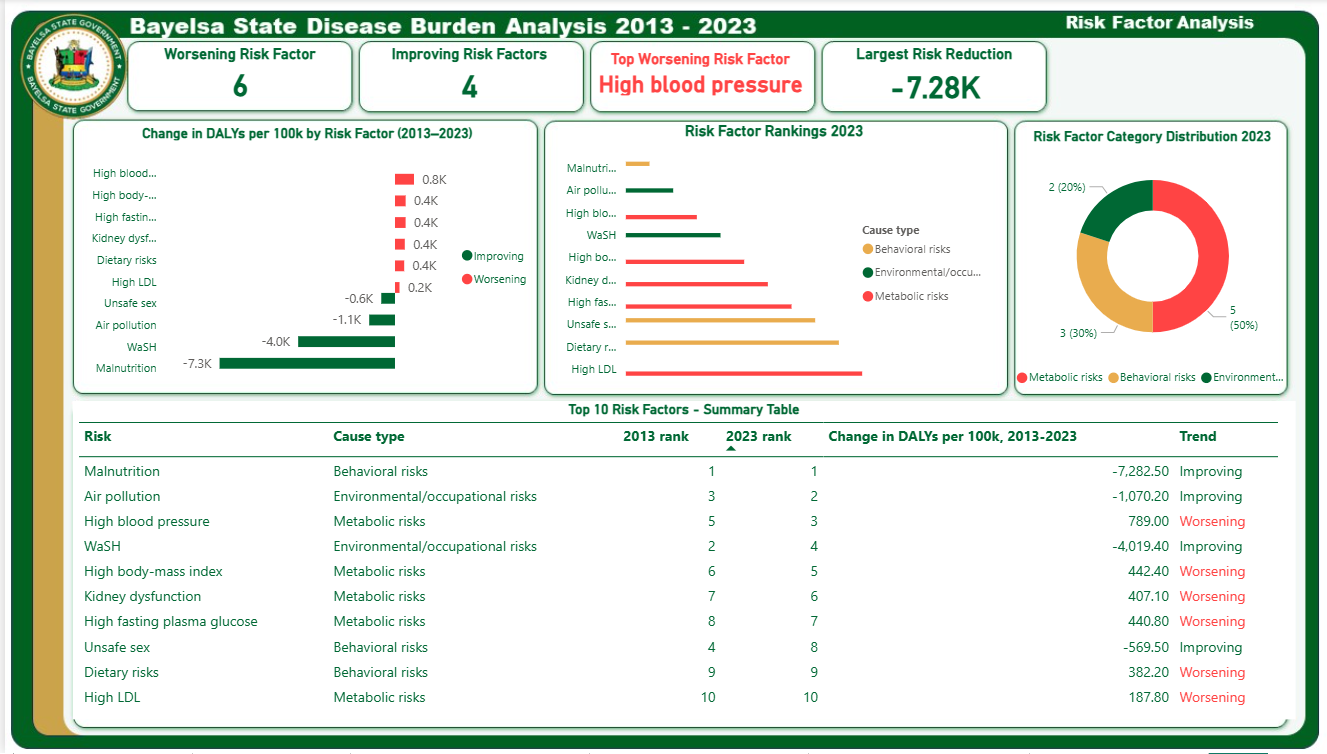

The page's visual inventory and layout, read from the dashboard file:
{"tool":"powerbi","page":{"name":"Risk Factor Analysis","canvas":[1280,720],"ordinal":4},"visuals":[{"type":"card","title":"Worsening Risk Factor","fields":{"Values":["Risk Factors.Worsening Risk Factors"]},"box":[120,44,208,55],"z":0},{"type":"card","title":"Improving Risk Factors","fields":{"Values":["Risk Factors.Improving Risk Factors"]},"box":[339,44,208,57],"z":1000},{"type":"card","title":"Top Worsening Risk Factor","fields":{"Values":["Risk Factors.Top Worsening Risk Factor"]},"box":[560,48,208,48],"z":2000},{"type":"card","title":"Largest Risk Reduction","fields":{"Values":["Risk Factors.Largest Risk Reduction"]},"box":[784,44,208,60],"z":3000},{"type":"clusteredBarChart","title":"Change in DALYs per 100k by Risk Factor (2013–2023)","fields":{"Category":["Risk Factors.Risk"],"Y":["Risk Factors.Risk Factor DALYs Change"],"Series":["Risk Factors.Trend"]},"box":[64,121,448,256],"z":4000},{"type":"clusteredBarChart","title":"Risk Factor Rankings 2023","fields":{"Category":["Risk Factors.Risk"],"Y":["Sum(Risk Factors.2023 rank)"],"Series":["Risk Factors.Cause type"]},"box":[519,118,432,256],"z":5000},{"type":"donutChart","title":"Risk Factor Category Distribution 2023","fields":{"Category":["Risk Factors.Cause type"],"Y":["CountNonNull(Risk Factors.2023 rank)"]},"box":[960,123,272,256],"z":6000},{"type":"tableEx","title":"Top 10 Risk Factors - Summary Table","fields":{"Values":["Risk Factors.Risk","Risk Factors.Cause type","Risk Factors.2013 rank","Risk Factors.2023 rank","Risk Factors.Change in DALYs per 100k, 2013-2023","Risk Factors.Trend"]},"box":[64,384,1168,304],"z":7000}]}

Visuals, with their boxes in screenshot pixels (x1, y1, x2, y2), scaled from the page's 1280x720 canvas onto the 1327x754 screenshot:
"Worsening Risk Factor" card: Rect(124, 46, 340, 104)
"Improving Risk Factors" card: Rect(351, 46, 567, 106)
"Top Worsening Risk Factor" card: Rect(581, 50, 796, 101)
"Largest Risk Reduction" card: Rect(813, 46, 1028, 109)
"Change in DALYs per 100k by Risk Factor (2013–2023)" clusteredBarChart: Rect(66, 127, 531, 395)
"Risk Factor Rankings 2023" clusteredBarChart: Rect(538, 124, 986, 392)
"Risk Factor Category Distribution 2023" donutChart: Rect(995, 129, 1277, 397)
"Top 10 Risk Factors - Summary Table" tableEx: Rect(66, 402, 1277, 720)
